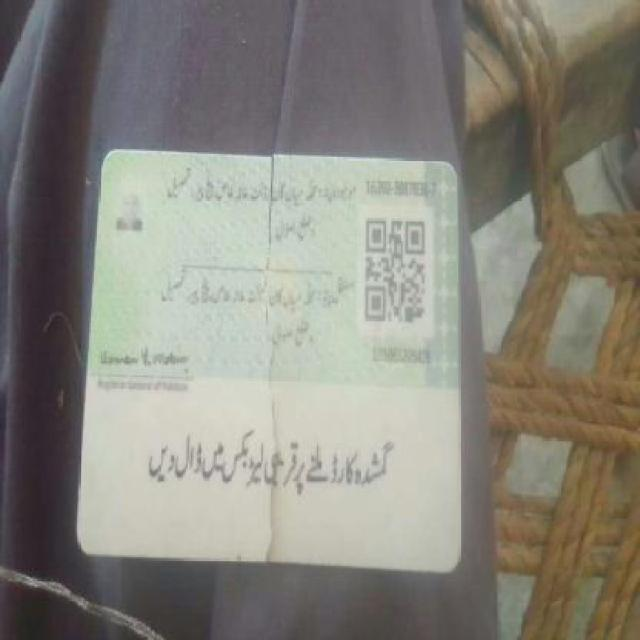Back: (77, 151, 461, 580)
